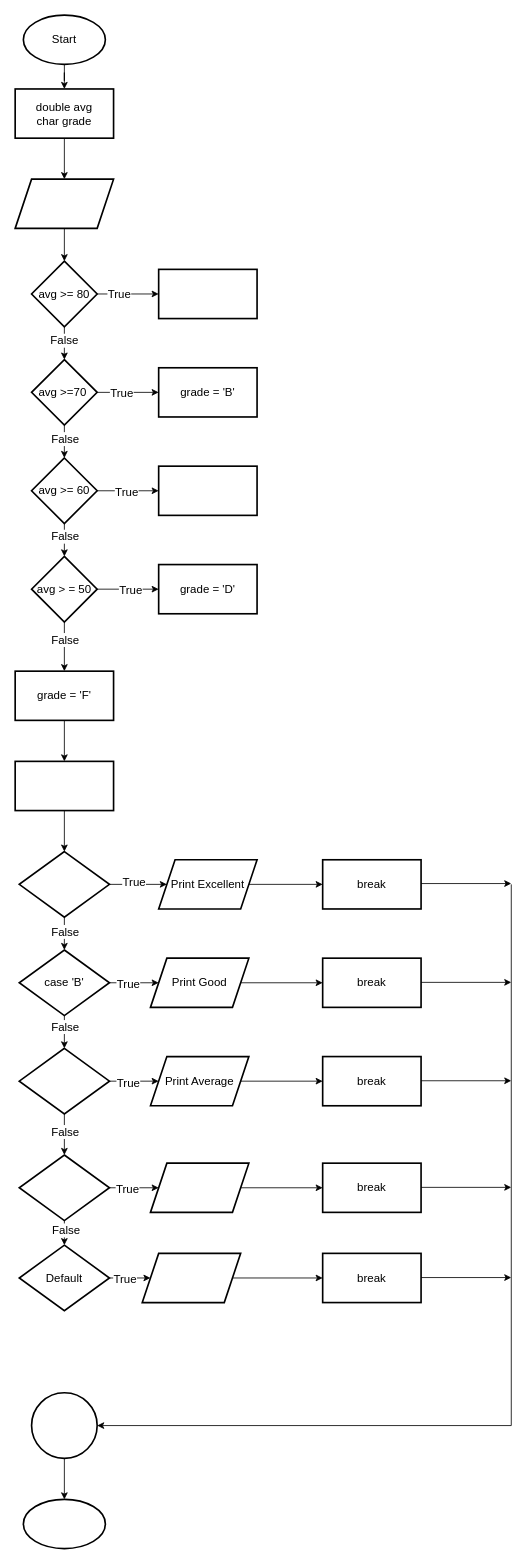
The diagram is 532 pixels wide and 1563 high, and some of its shapes have lost their labels. The box of each missing label's shape, as (x1, y1, x2, y2) in pixels:
case 'A': (18, 850, 110, 918)
case 'C': (18, 1047, 110, 1114)
case 'D': (18, 1154, 110, 1221)
End: (22, 1498, 106, 1549)
Enter avg: (14, 178, 114, 229)
grade = 'A': (157, 268, 257, 319)
grade = 'C': (157, 465, 257, 516)
Print Fail: (141, 1252, 241, 1303)
Print Poor: (149, 1162, 249, 1213)
switch (grade): (14, 760, 114, 811)
